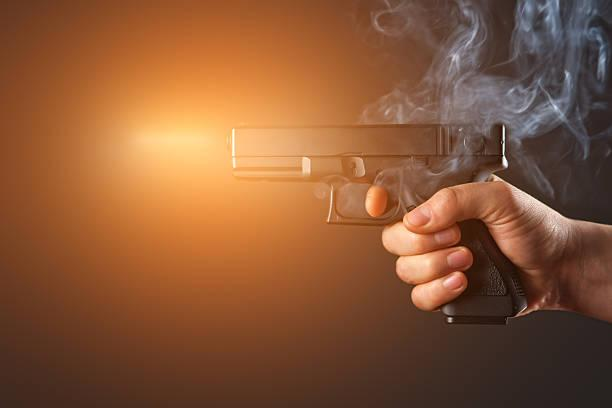weapon: (221, 116, 532, 325)
